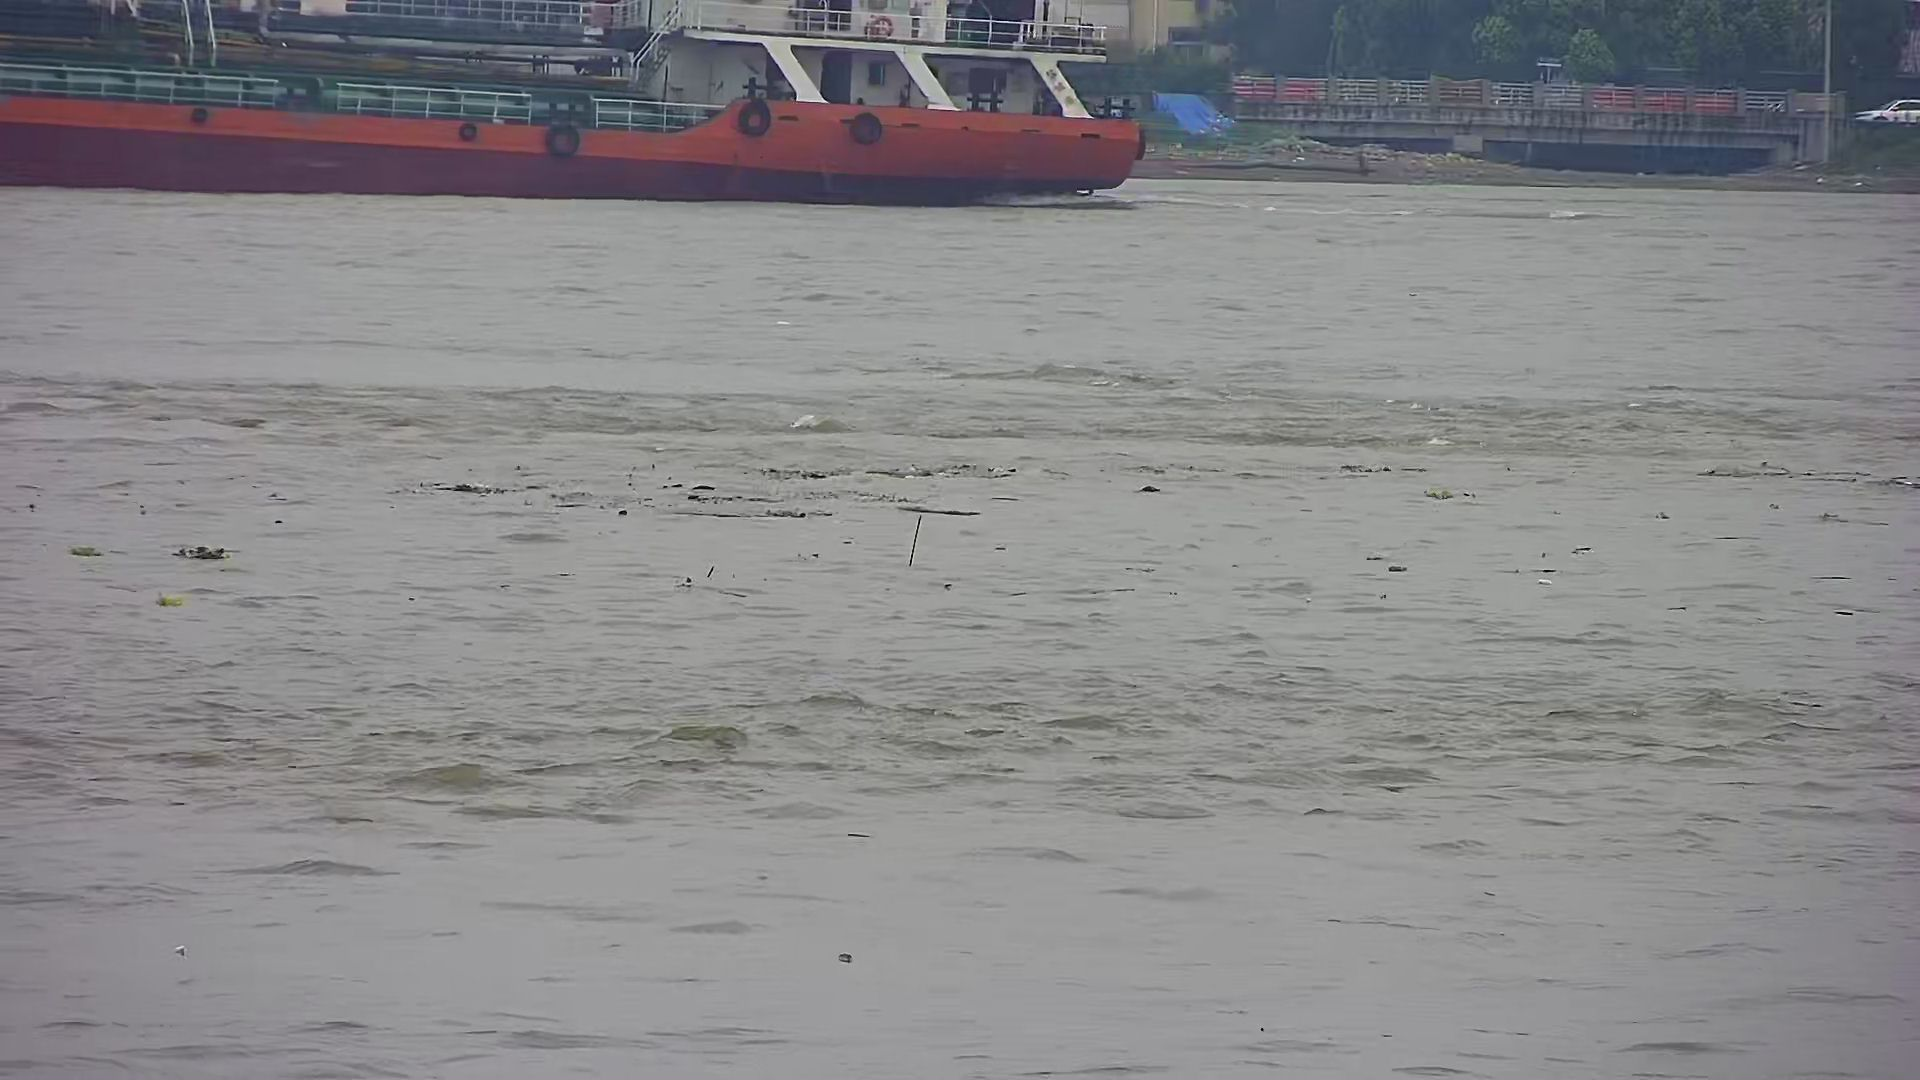ship: (4, 7, 1150, 208)
